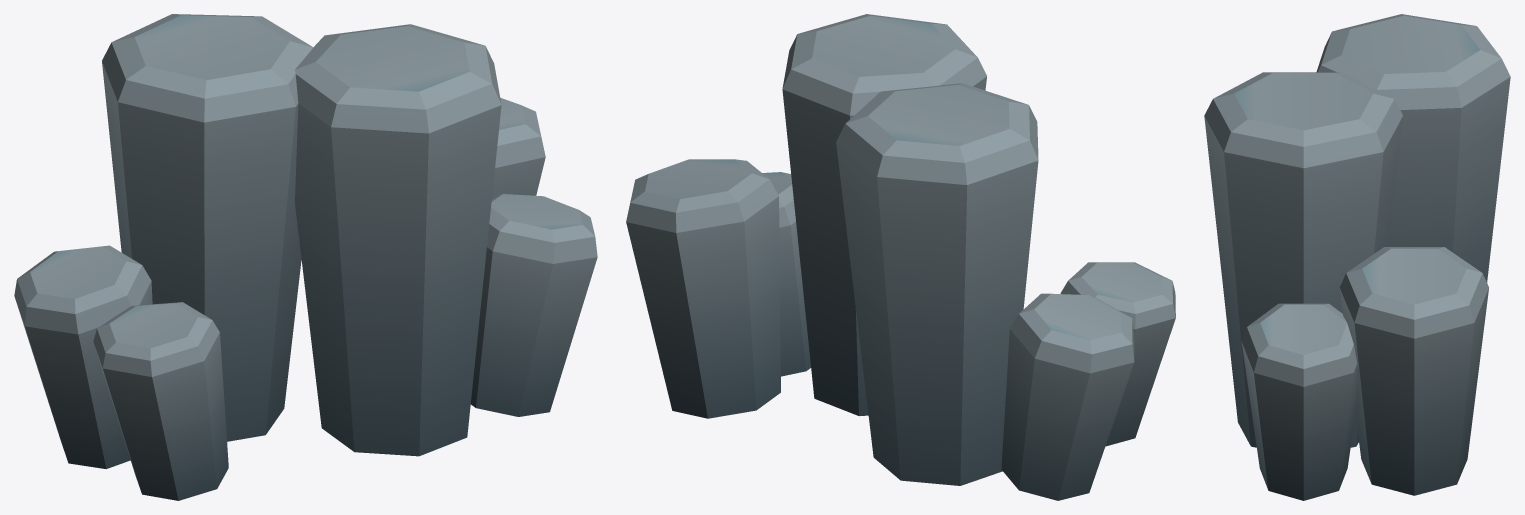
File: M_mine.fbx
3 renders of one model, left to right at view 1: azimuth 30°, elevation 25°; view 2: azimuth 150°, elevation 25°; view 3: azimuth 270°, elevation 25°, orthographic. The views are drawn at different scales.
Parts seen in each view (by area): view 1: M_mine_1; view 2: M_mine_1; view 3: M_mine_1.
Boxes of the visible parts, left/top/right/bottom form: M_mine_1: left=14, top=14, right=597, bottom=500; M_mine_1: left=626, top=14, right=1175, bottom=500; M_mine_1: left=1204, top=14, right=1510, bottom=500.
Size of the model in its own units: 1121 by 761 by 631.
1 material, 1 textured.
